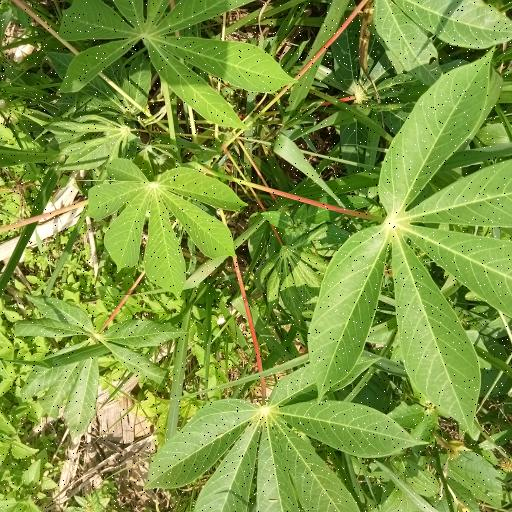Cassava_Healthy: (308, 50, 512, 419), (151, 382, 412, 512), (57, 0, 292, 129), (91, 153, 248, 296)
